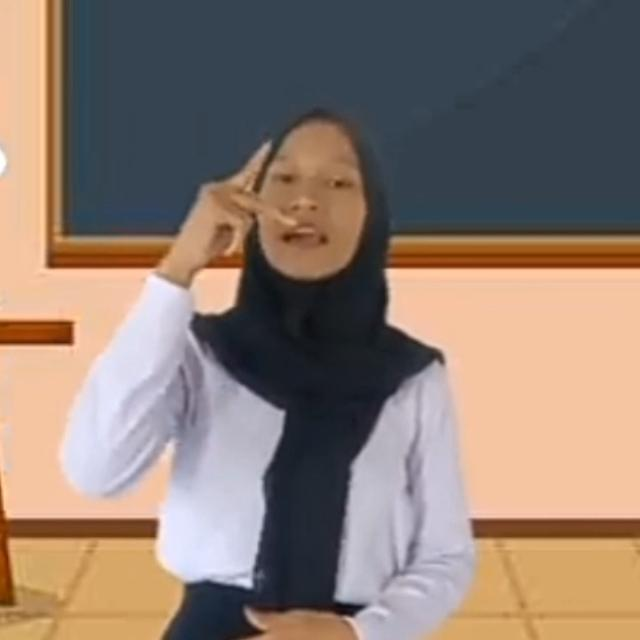K: (160, 135, 302, 273)
